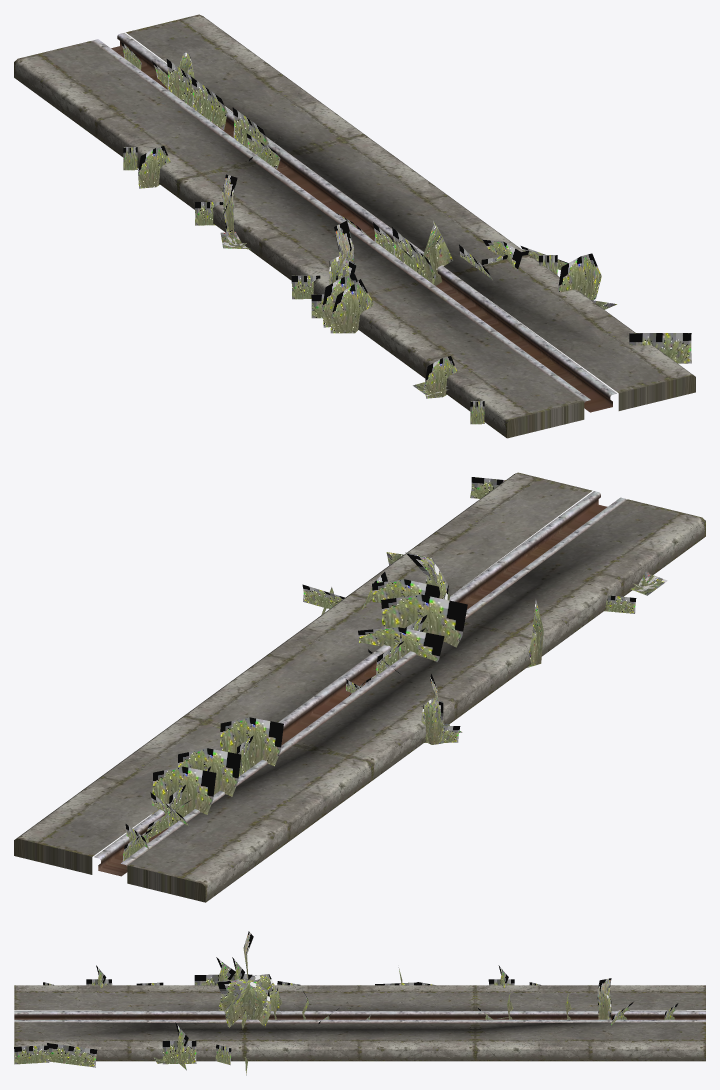
Rendered from crane_track_150x900.glb.
3 views of the same model, one above another, from view 1: azimuth 30°, elevation 25°; view 2: azimuth 150°, elevation 25°; view 3: azimuth 270°, elevation 25° (orthographic). The views are drawn at different scales.
Visible parts, largest first — view 1: crane_track_150x900, cracks_grass_e_temperate, cracks_grass_h_temperate, cracks_grass_i_temperate, cracks_grass_f_temperate; view 2: crane_track_150x900, cracks_grass_i_temperate, cracks_grass_h_temperate, cracks_grass_e_temperate; view 3: crane_track_150x900, cracks_grass_f_temperate, cracks_grass_i_temperate, cracks_grass_e_temperate, cracks_grass_h_temperate.
Boxes of the visible parts, bbox=[...] form: crane_track_150x900: bbox=[14, 14, 695, 438]; cracks_grass_e_temperate: bbox=[123, 146, 484, 424]; cracks_grass_h_temperate: bbox=[121, 41, 280, 168]; cracks_grass_i_temperate: bbox=[336, 213, 567, 285]; cracks_grass_f_temperate: bbox=[539, 253, 691, 363]; crane_track_150x900: bbox=[14, 472, 705, 902]; cracks_grass_i_temperate: bbox=[302, 552, 467, 695]; cracks_grass_h_temperate: bbox=[122, 717, 283, 861]; cracks_grass_e_temperate: bbox=[421, 571, 667, 744]; crane_track_150x900: bbox=[14, 985, 705, 1061]; cracks_grass_f_temperate: bbox=[14, 1022, 231, 1070]; cracks_grass_i_temperate: bbox=[217, 974, 370, 1075]; cracks_grass_e_temperate: bbox=[43, 931, 540, 988]; cracks_grass_h_temperate: bbox=[478, 978, 678, 1024].
Bounding box in the file's own units: 2.73 × 0.9574 × 9.
Materials: 3 (3 with a texture image).
